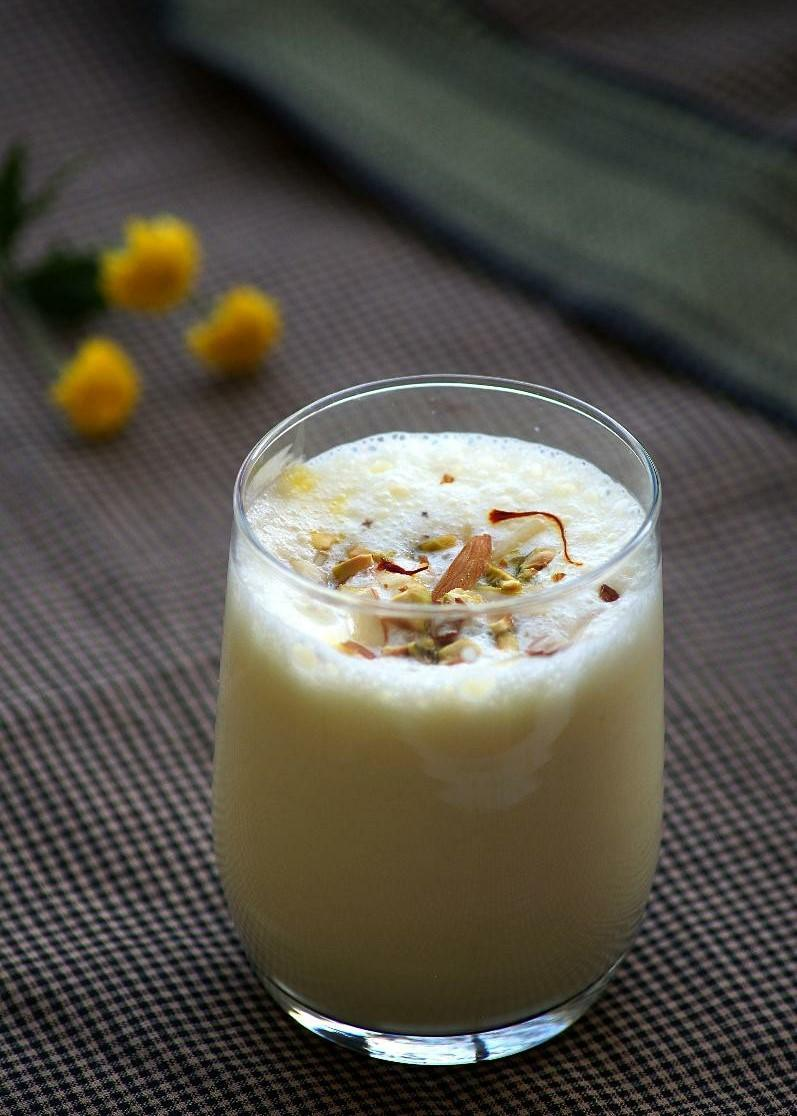Lassi: (213, 432, 667, 1033)
